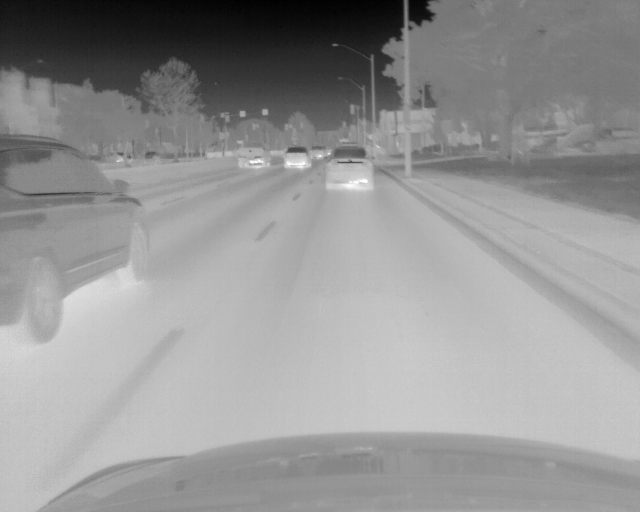car: (1, 131, 155, 343), (325, 145, 376, 194), (234, 138, 270, 171), (282, 146, 312, 170), (309, 146, 324, 161)
